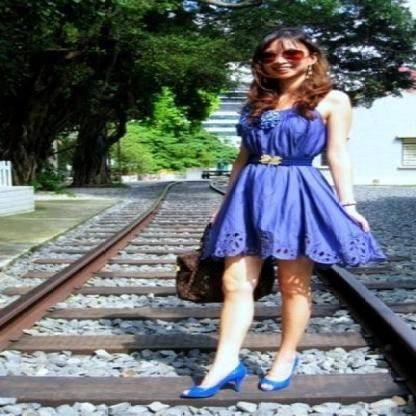bag: (162, 243, 281, 303)
dress: (190, 108, 384, 275)
shoe: (186, 363, 247, 396)
sunglass: (282, 42, 311, 67)
